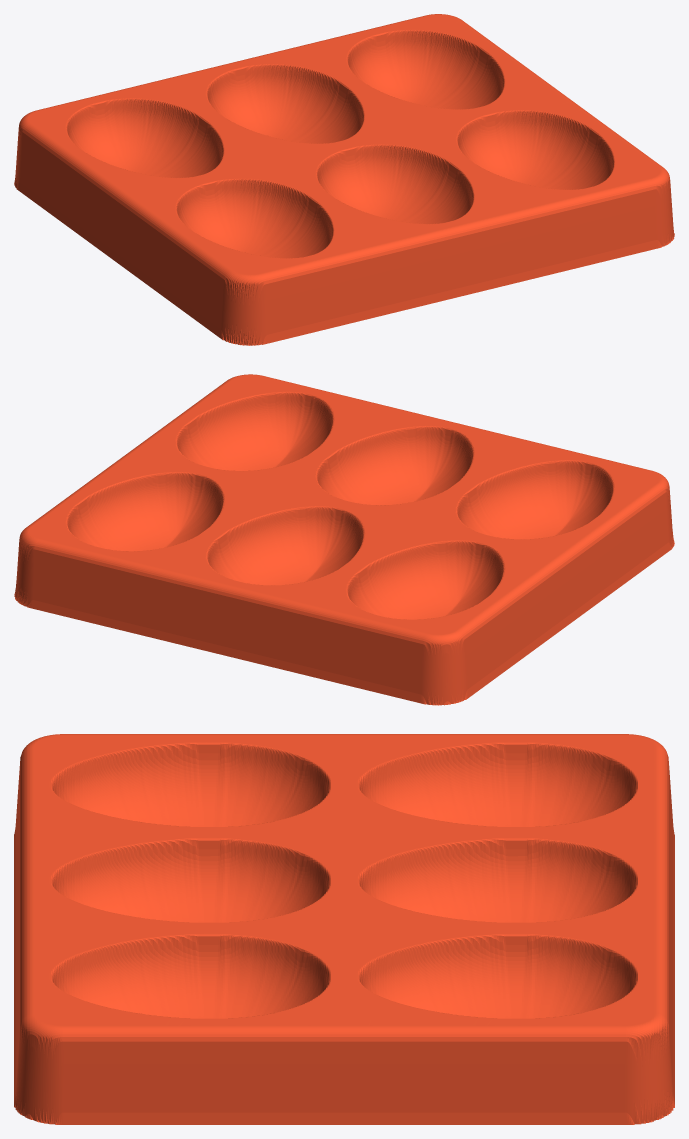
The model's file is mold.glb.
The picture shows the model from 3 angles, top to bottom: view 1: azimuth 30°, elevation 25°; view 2: azimuth 150°, elevation 25°; view 3: azimuth 270°, elevation 25°; orthographic projection. The views are drawn at different scales.
Parts seen in each view (by area): view 1: geometry_0; view 2: geometry_0; view 3: geometry_0.
Boxes of the visible parts, left/top/right/bottom form: geometry_0: left=14, top=14, right=674, bottom=345; geometry_0: left=14, top=374, right=674, bottom=705; geometry_0: left=14, top=734, right=674, bottom=1124.
Bounding box in the file's own units: 0.1344 × 0.0185 × 0.1222.
